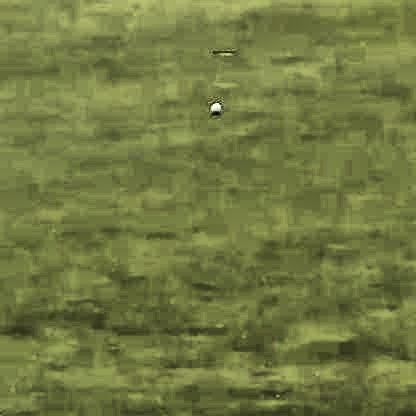golfball: (208, 100, 219, 112)
